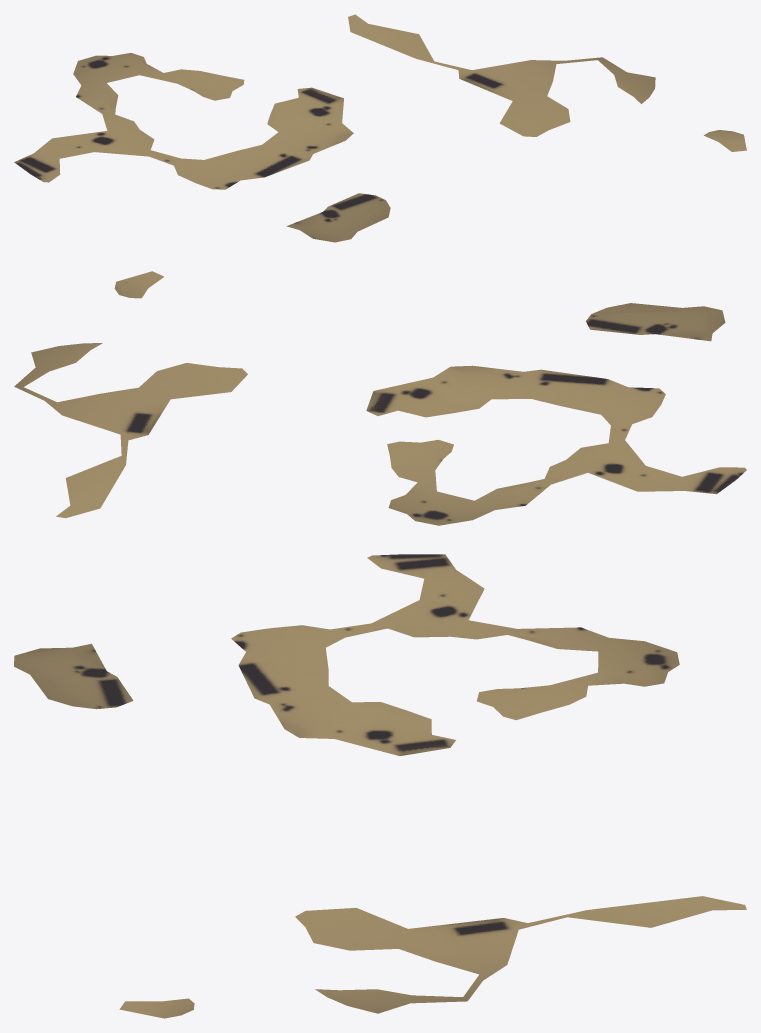
File: Ground_05.FBX
3 views of the same model, one above another, from view 1: azimuth 30°, elevation 25°; view 2: azimuth 150°, elevation 25°; view 3: azimuth 270°, elevation 25° (orthographic). The views are drawn at different scales.
Visible parts, largest first — view 1: Ground_05; view 2: Ground_05; view 3: Ground_05.
Part boxes in pixels (x1,y1,x2,y2): Ground_05: (14,14,746,242); Ground_05: (14,271,746,525); Ground_05: (14,554,746,1018).
Bounding box in the file's own units: 36.72 × 2.66 × 28.28.
